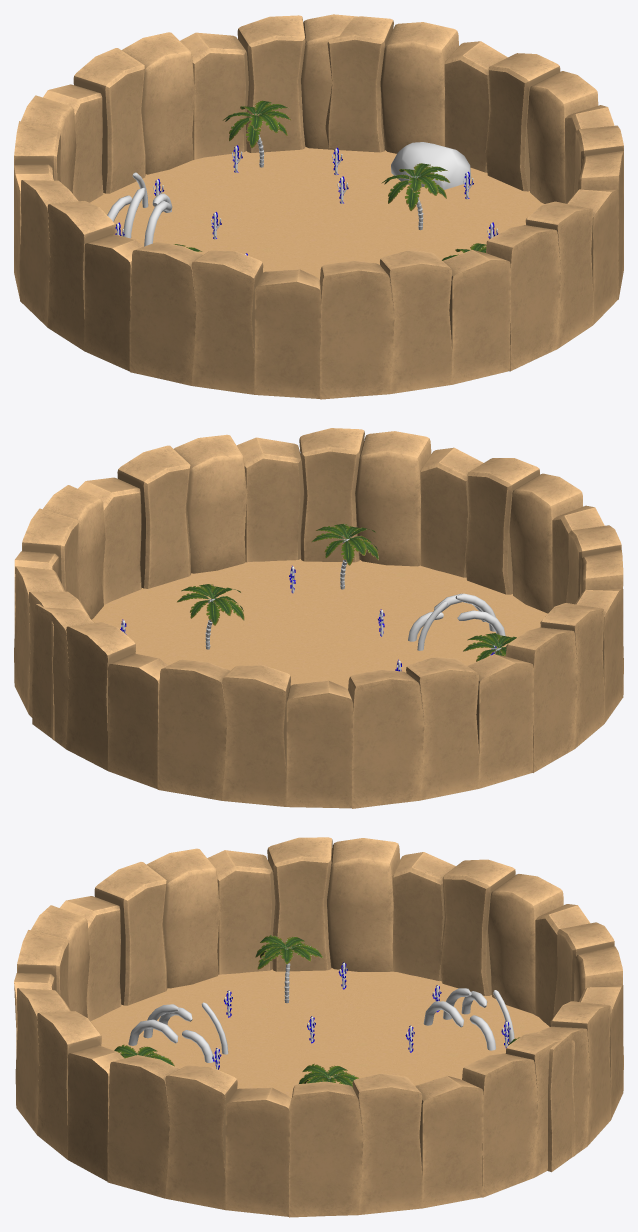
The model's file is EscenarioDesierto.fbx.
The picture shows the model from 3 angles, top to bottom: view 1: azimuth 30°, elevation 25°; view 2: azimuth 150°, elevation 25°; view 3: azimuth 270°, elevation 25°; orthographic projection.
Parts seen in each view (by area): view 1: piedra muro030, Suelo002, Vegetacion003, Box001, Cylinder007, Cactus2_013; view 2: piedra muro030, Suelo002, Vegetacion003, Cylinder007; view 3: piedra muro030, Suelo002, Cylinder007, Vegetacion003, Cactus2_013.
Boxes of the visible parts, left/top/right/bottom form: piedra muro030: left=14, top=14, right=623, bottom=399; Suelo002: left=90, top=147, right=544, bottom=280; Vegetacion003: left=173, top=100, right=486, bottom=260; Box001: left=391, top=142, right=471, bottom=189; Cylinder007: left=107, top=172, right=172, bottom=246; Cactus2_013: left=115, top=147, right=498, bottom=255; piedra muro030: left=14, top=428, right=623, bottom=808; Suelo002: left=92, top=559, right=547, bottom=689; Vegetacion003: left=177, top=523, right=516, bottom=661; Cylinder007: left=408, top=593, right=505, bottom=650; piedra muro030: left=14, top=837, right=623, bottom=1217; Suelo002: left=91, top=968, right=549, bottom=1097; Cylinder007: left=128, top=988, right=514, bottom=1062; Vegetacion003: left=114, top=934, right=519, bottom=1087; Cactus2_013: left=212, top=962, right=510, bottom=1069.
Size of the model in its own units: 3784 by 862 by 3806.
